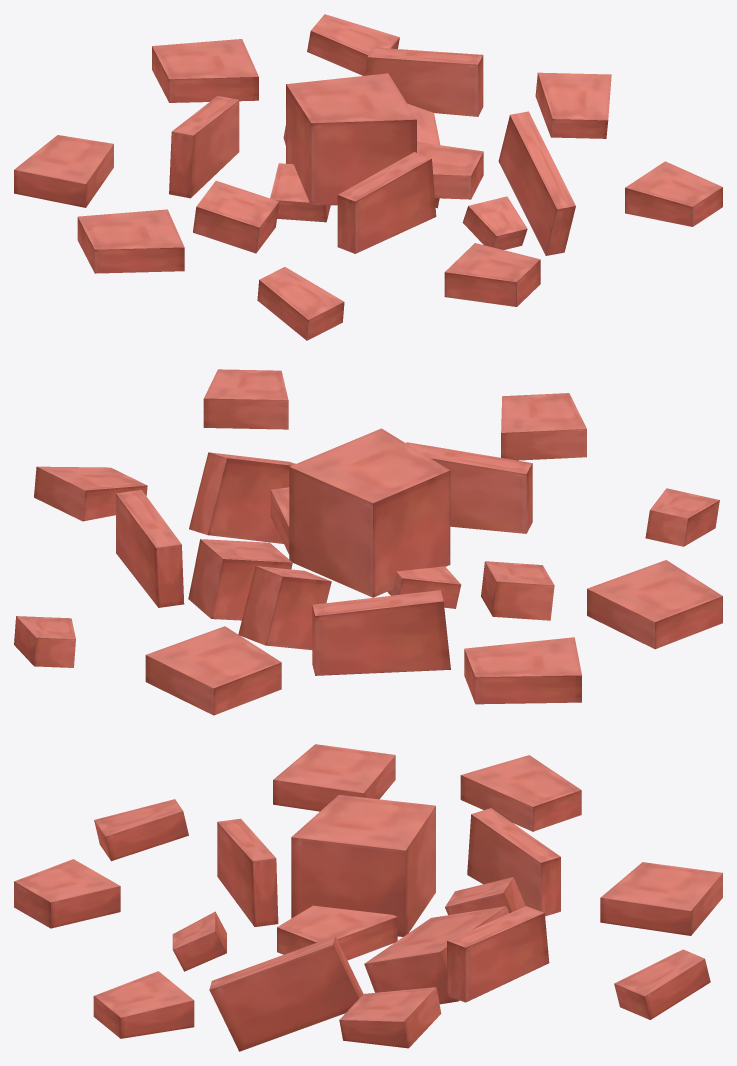
File: debris.glb
3 renders of one model, top to bottom at view 1: azimuth 30°, elevation 25°; view 2: azimuth 150°, elevation 25°; view 3: azimuth 270°, elevation 25°, orthographic. The views are drawn at different scales.
Parts seen in each view (by area): view 1: debris; view 2: debris; view 3: debris.
Boxes of the visible parts, x1,y1,x2,y2 form: debris: (14,14,722,340); debris: (14,369,722,715); debris: (14,744,722,1051).
Size of the model in its own units: 2.05 by 0.5073 by 2.15.
Materials: 1 (1 with a texture image).
